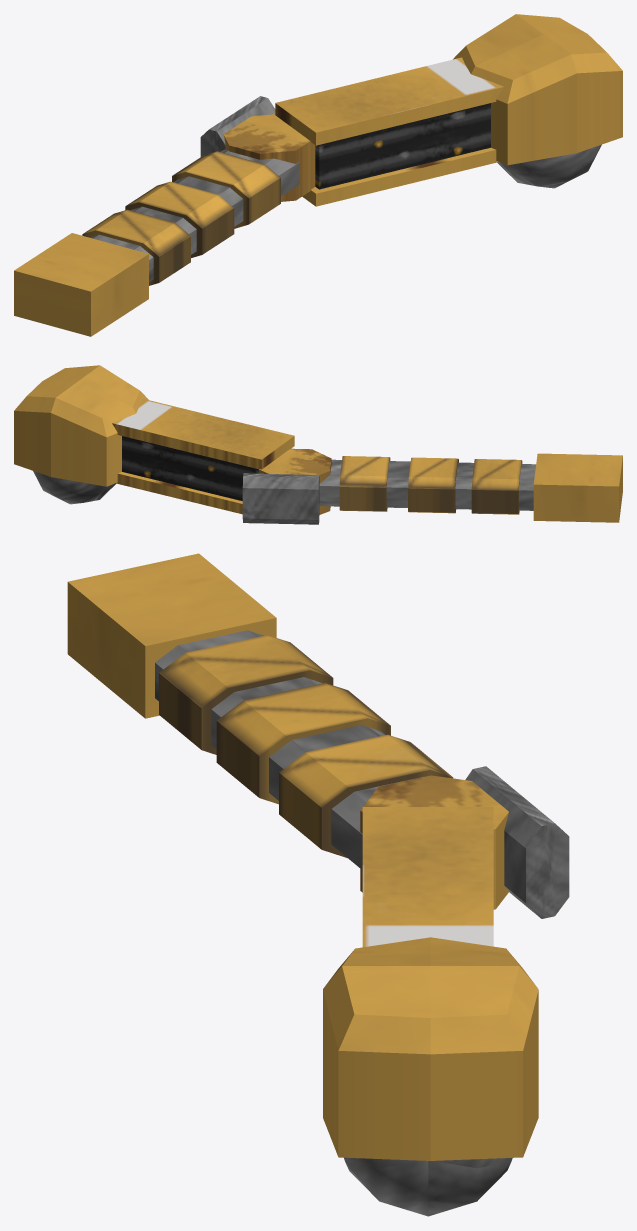
The model's file is Robot 6 L wing.fbx.
3 views of the same model, one above another, from view 1: azimuth 30°, elevation 25°; view 2: azimuth 150°, elevation 25°; view 3: azimuth 270°, elevation 25° (orthographic). The views are drawn at different scales.
Parts seen in each view (by area): view 1: Icosphere.004, Cylinder, Cube.017; view 2: Icosphere.004, Cylinder, Cube.017; view 3: Icosphere.004, Cylinder, Cube.017.
Boxes of the visible parts, bbox=[...] form: Icosphere.004: bbox=[275, 14, 622, 206]; Cylinder: bbox=[82, 96, 315, 285]; Cube.017: bbox=[14, 233, 148, 336]; Icosphere.004: bbox=[14, 365, 294, 514]; Cylinder: bbox=[242, 448, 535, 524]; Cube.017: bbox=[533, 453, 622, 522]; Icosphere.004: bbox=[323, 807, 538, 1216]; Cylinder: bbox=[155, 630, 569, 918]; Cube.017: bbox=[67, 553, 276, 718].
Size of the model in its own units: 575 by 123 by 237.
